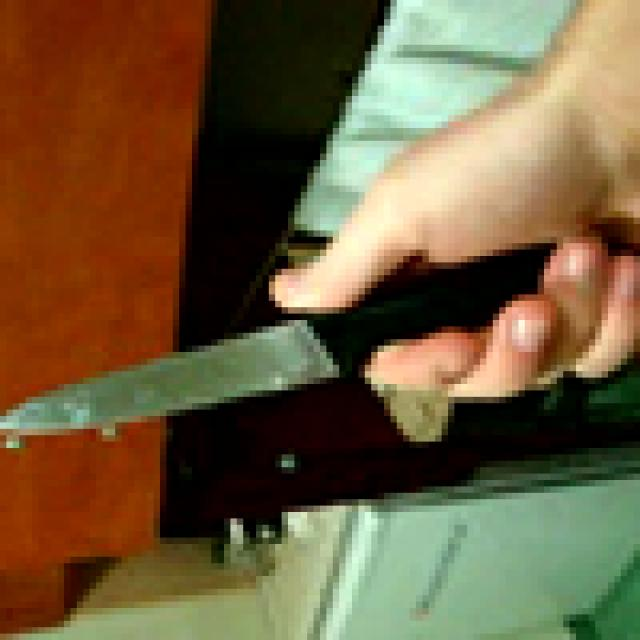Knife: (6, 205, 640, 454)
